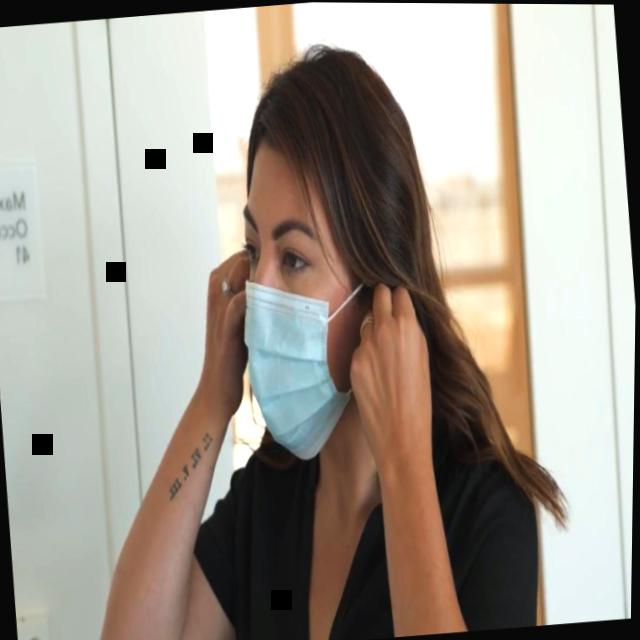Mask: (226, 134, 385, 465)
